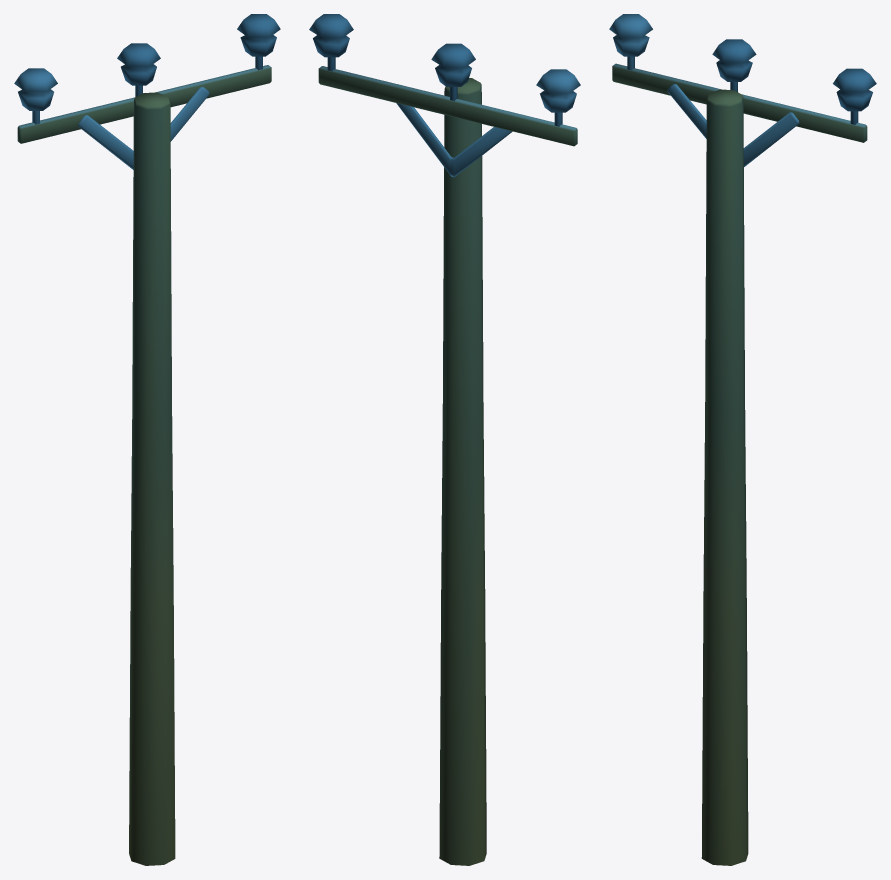
Rendered from TelegraphPole02Night.glb.
3 views of the same model, side by side, from view 1: azimuth 30°, elevation 25°; view 2: azimuth 150°, elevation 25°; view 3: azimuth 330°, elevation 25° (orthographic).
Parts seen in each view (by area): view 1: TelegraphPole02Night; view 2: TelegraphPole02Night; view 3: TelegraphPole02Night.
Boxes of the visible parts, bbox=[...] form: TelegraphPole02Night: bbox=[14, 14, 280, 865]; TelegraphPole02Night: bbox=[309, 14, 580, 865]; TelegraphPole02Night: bbox=[609, 14, 876, 865].
Bounding box in the file's own units: 2.29 × 6.8 × 0.5117.
